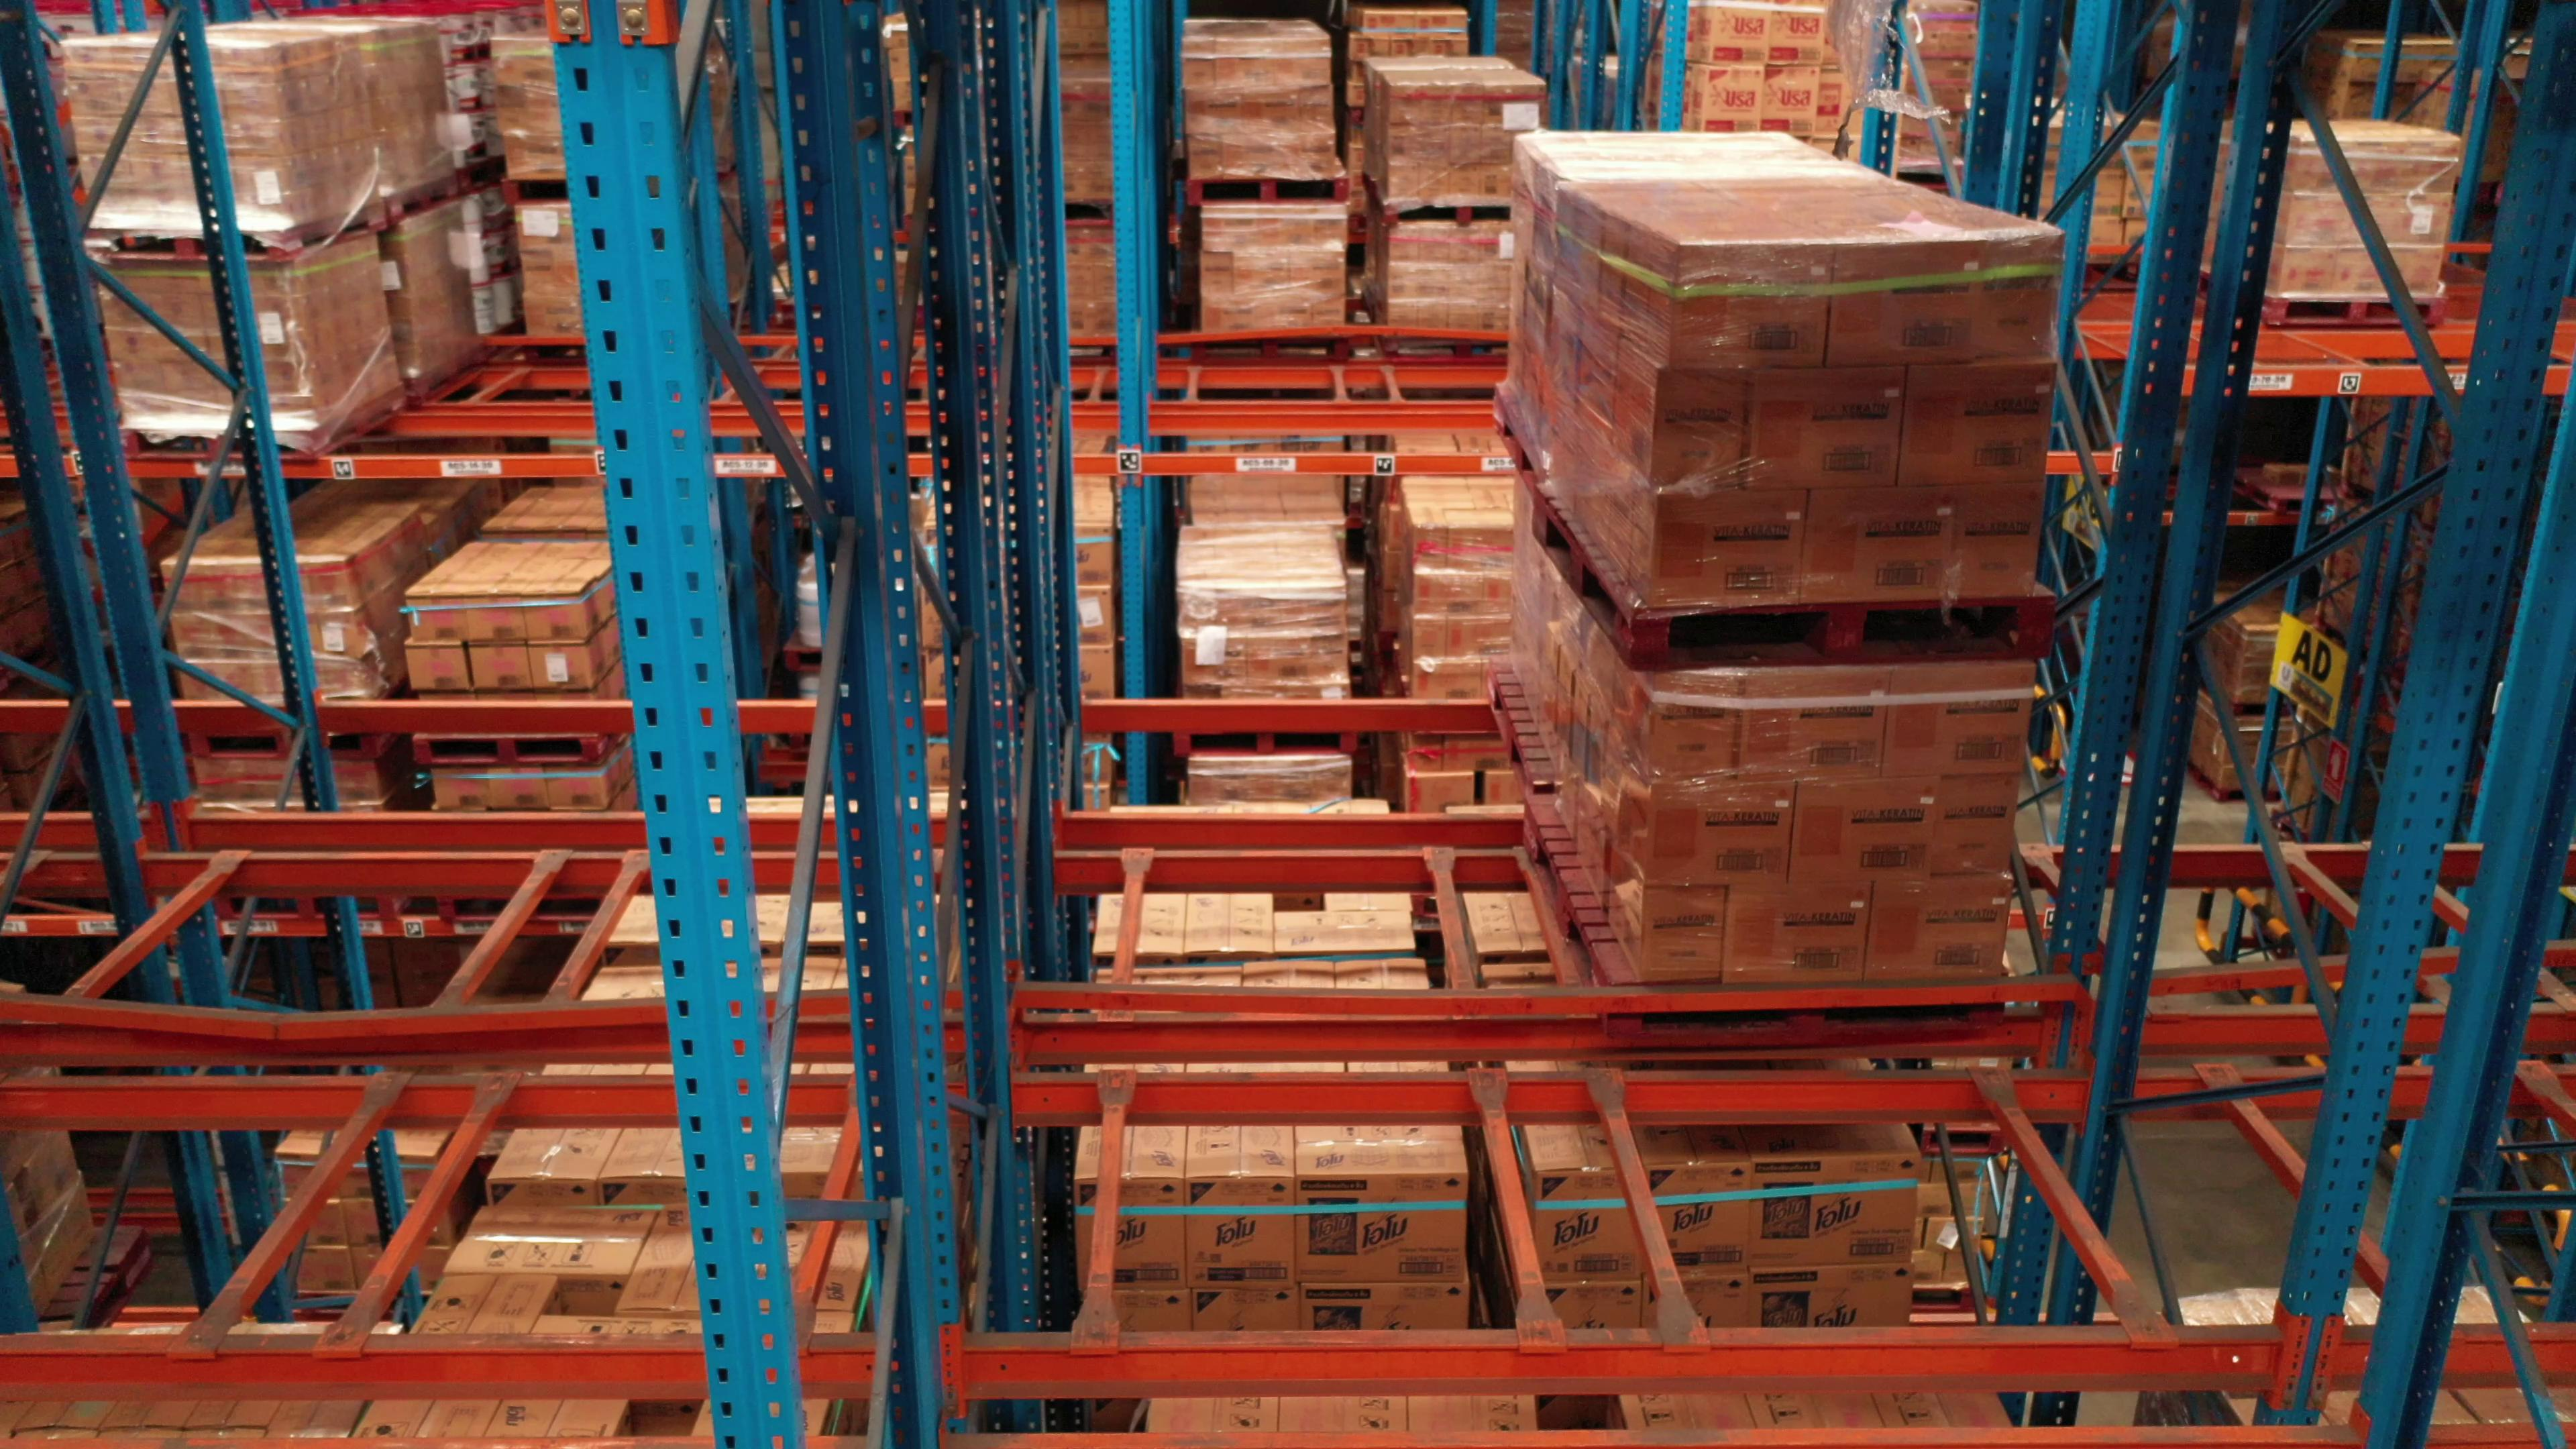box: (1663, 241, 1838, 370), (1897, 357, 2052, 488), (1746, 1155, 1918, 1270), (1299, 1171, 1468, 1286), (1831, 239, 1983, 366), (1879, 660, 2036, 780), (1645, 490, 1806, 607), (1730, 669, 1891, 782), (1752, 368, 1902, 488), (1801, 488, 1951, 603), (1644, 780, 1796, 888), (1790, 780, 1941, 888), (1867, 874, 2010, 982), (1723, 881, 1875, 982), (1647, 366, 1753, 490), (1187, 1175, 1297, 1290), (1645, 1162, 1752, 1277), (1532, 1175, 1644, 1283), (1951, 483, 2043, 598), (1980, 230, 2061, 359), (1651, 671, 1739, 780), (1746, 1270, 1909, 1329), (1638, 886, 1729, 985), (1934, 777, 2022, 876), (1113, 1178, 1189, 1290), (1297, 1286, 1472, 1330), (1543, 1277, 1645, 1329), (1189, 1290, 1299, 1330), (1677, 1277, 1748, 1323)
